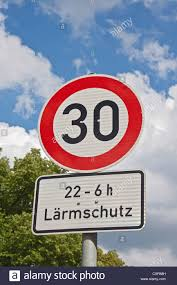Speed_limit_30km: (39, 76, 144, 170)
